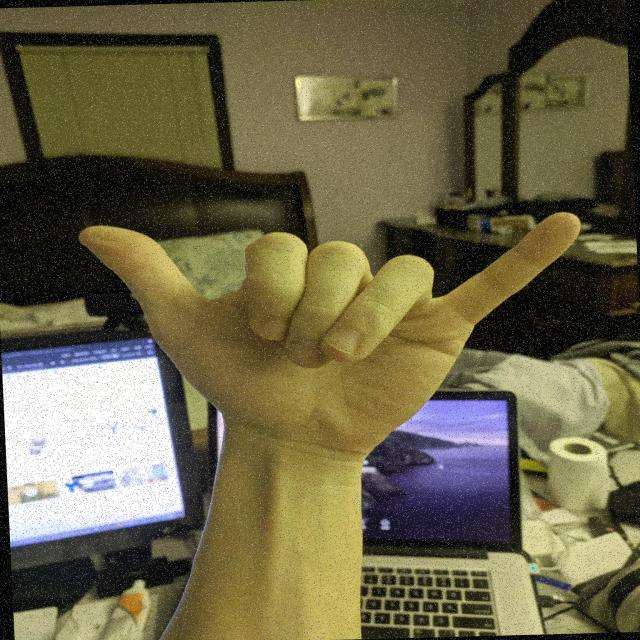Y: (71, 208, 598, 467)
